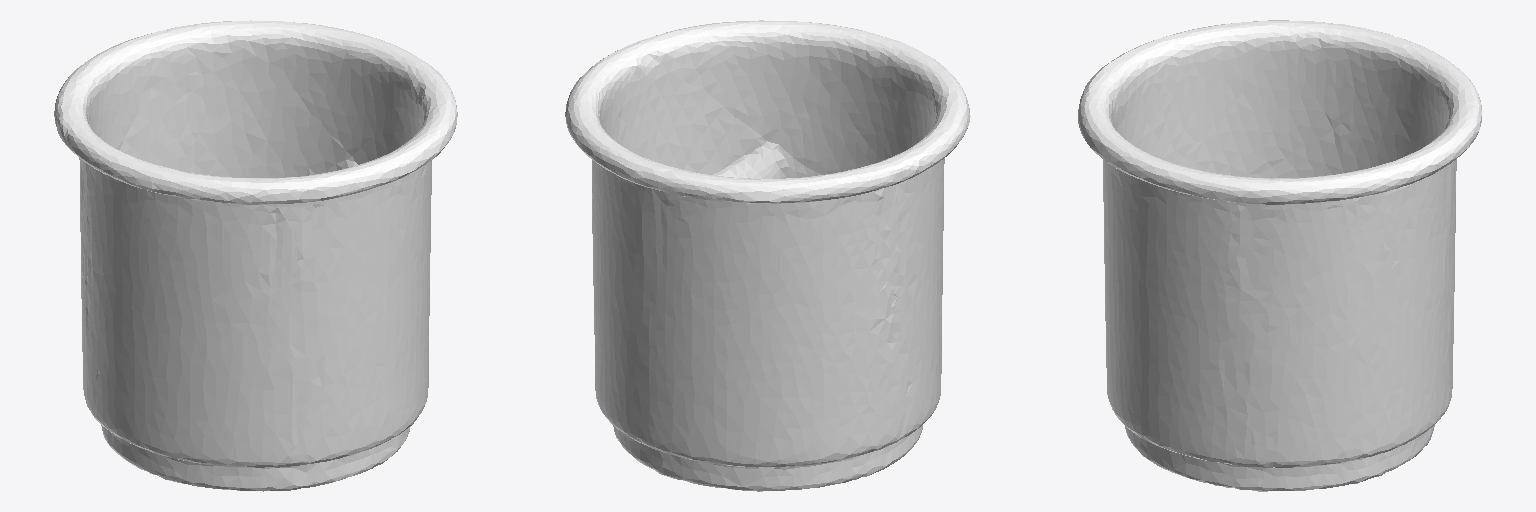
robot.urdf — f_cups:
<robot name="f_cups">
    <link name="base_link">
        <visual>
            <origin xyz="0.0 0.0 -0.0" rpy="0.0 0.0 0.0" />
            <geometry>
                <mesh filename="f_cups/textured.obj" scale="1 1 1" />
            </geometry>
            <material name="texture">
                <color rgba="1.0 1.0 1.0 1.0" />
            </material>
        </visual>
        <collision>
            <origin xyz="0.0 0.0 -0.0" rpy="0.0 0.0 0.0" />
            <geometry>
                <mesh filename="f_cups/textured_coacd_0.stl" scale="1 1 1" />
            </geometry>
        </collision>
        <collision>
            <origin xyz="0.0 0.0 -0.0" rpy="0.0 0.0 0.0" />
            <geometry>
                <mesh filename="f_cups/textured_coacd_1.stl" scale="1 1 1" />
            </geometry>
        </collision>
        <collision>
            <origin xyz="0.0 0.0 -0.0" rpy="0.0 0.0 0.0" />
            <geometry>
                <mesh filename="f_cups/textured_coacd_2.stl" scale="1 1 1" />
            </geometry>
        </collision>
        <collision>
            <origin xyz="0.0 0.0 -0.0" rpy="0.0 0.0 0.0" />
            <geometry>
                <mesh filename="f_cups/textured_coacd_3.stl" scale="1 1 1" />
            </geometry>
        </collision>
        <collision>
            <origin xyz="0.0 0.0 -0.0" rpy="0.0 0.0 0.0" />
            <geometry>
                <mesh filename="f_cups/textured_coacd_4.stl" scale="1 1 1" />
            </geometry>
        </collision>
        <inertial>
            <mass value="0.026" />
            <inertia ixx="1e-3" ixy="0.0" ixz="0.0" iyy="1e-3" iyz="0.0" izz="1e-3" />
        </inertial>
    </link>
</robot>

--- Render facts (derived) ---
Views: 3 orthographic renders of the robot side by side, from view 1: azimuth 30°, elevation 25°; view 2: azimuth 150°, elevation 25°; view 3: azimuth 270°, elevation 25°.
Model f_cups with 1 links and 0 joints (none), rooted at base_link, posed every joint at zero.
Visible links, largest first — view 1: base_link; view 2: base_link; view 3: base_link.
Boxes of the visible links, x1,y1,x2,y2 form: base_link: (54, 20, 457, 491); base_link: (565, 20, 970, 491); base_link: (1078, 20, 1481, 491).
Size in the robot's own frame: 0.0804 by 0.0808 by 0.0721 metres.
Meshes: 1 distinct files referenced, 1 mesh visuals loaded (1 OBJ).